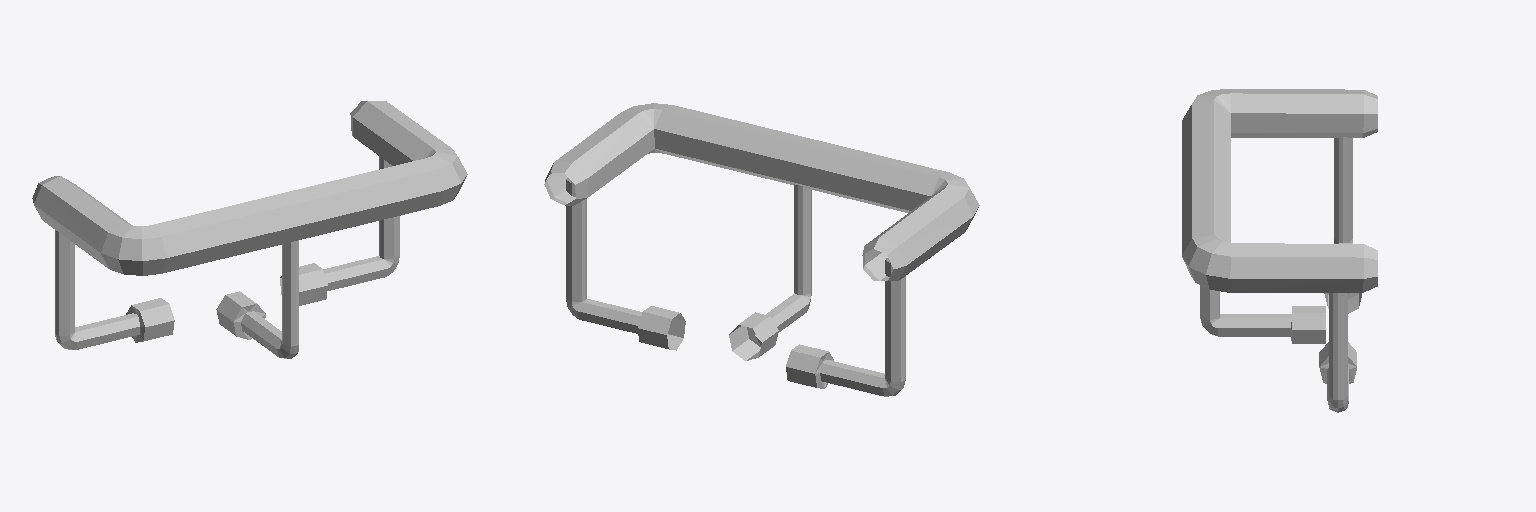
The model's file is Seperator_Handle uv.obj.
3 views of the same model, side by side, from view 1: azimuth 30°, elevation 25°; view 2: azimuth 150°, elevation 25°; view 3: azimuth 270°, elevation 25° (orthographic).
Parts seen in each view (by area): view 1: Seperator_Handle; view 2: Seperator_Handle; view 3: Seperator_Handle.
Boxes of the visible parts, <box> form: Seperator_Handle: <box>32,101,467,358</box>; Seperator_Handle: <box>544,103,979,396</box>; Seperator_Handle: <box>1182,89,1377,412</box>.
Bounding box in the file's own units: 35.05 × 16.44 × 16.54.